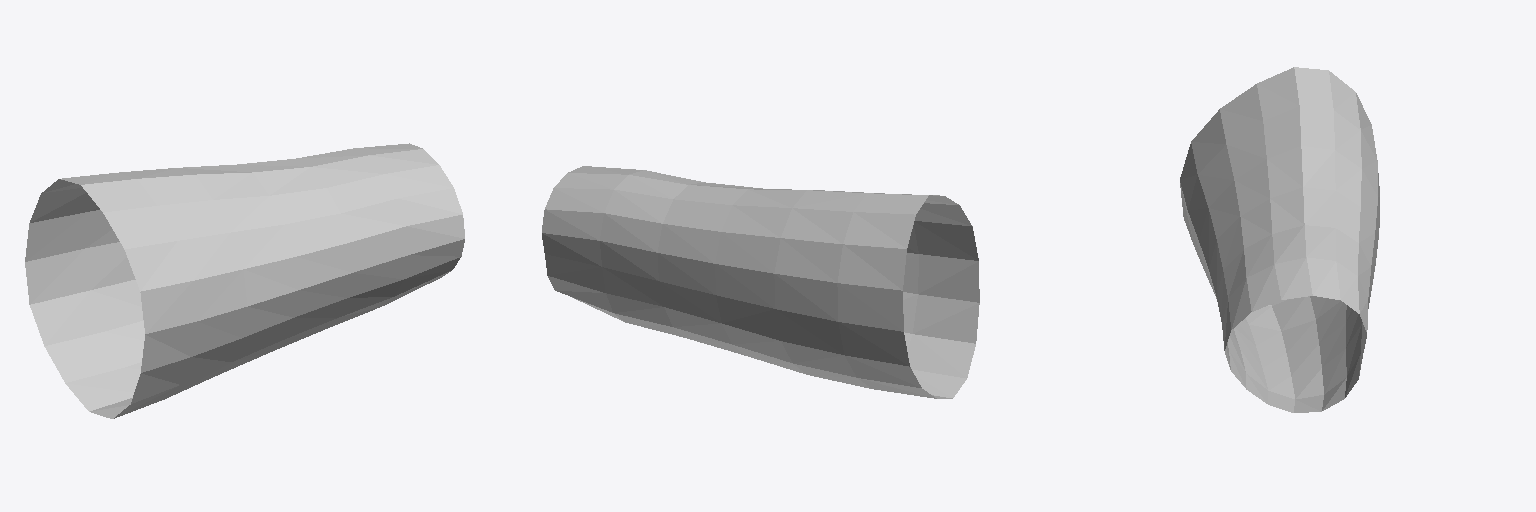
Rendered from LeftElbow.obj.
The picture shows the model from 3 angles: view 1: azimuth 30°, elevation 25°; view 2: azimuth 150°, elevation 25°; view 3: azimuth 270°, elevation 25°; orthographic projection.
Parts seen in each view (by area): view 1: polySurface25 left_mid_arm polySurface1 SmoothSkin2_jackie; view 2: polySurface25 left_mid_arm polySurface1 SmoothSkin2_jackie; view 3: polySurface25 left_mid_arm polySurface1 SmoothSkin2_jackie.
Boxes of the visible parts, <box> form: polySurface25 left_mid_arm polySurface1 SmoothSkin2_jackie: <box>25,143,464,418</box>; polySurface25 left_mid_arm polySurface1 SmoothSkin2_jackie: <box>542,166,979,398</box>; polySurface25 left_mid_arm polySurface1 SmoothSkin2_jackie: <box>1180,67,1379,412</box>.
Bounding box in the file's own units: 6.43 × 3.56 × 3.03.